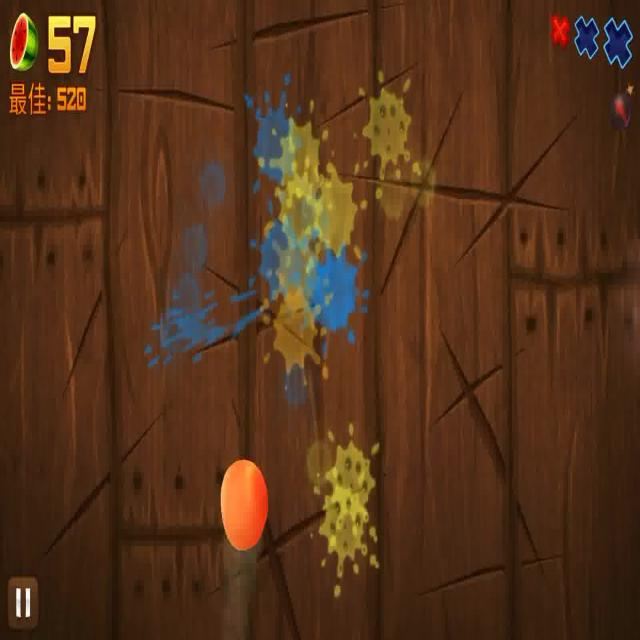fruit: (219, 461, 269, 554)
